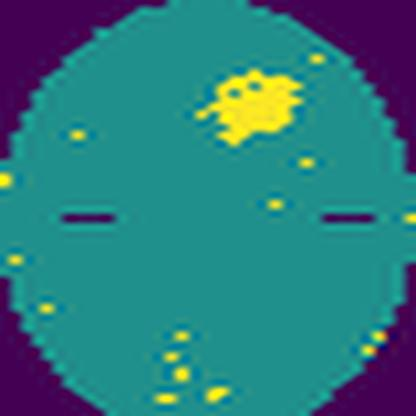Loc: (200, 68, 307, 152)
